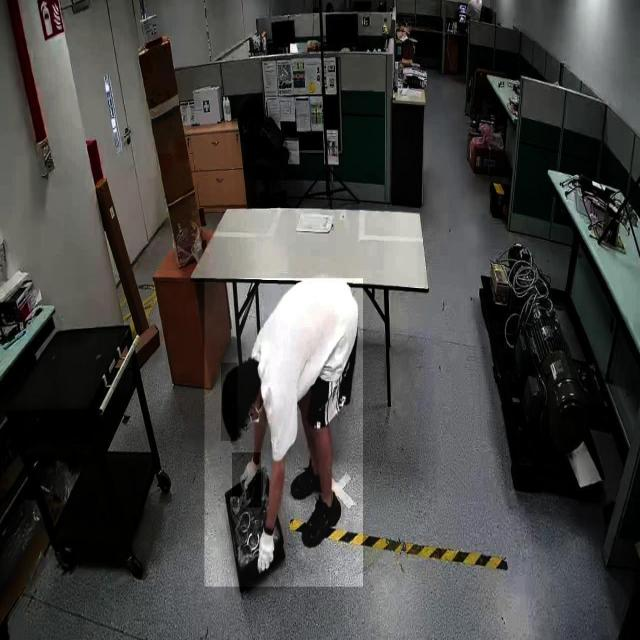hand_glove: (232, 452, 262, 508), (253, 524, 282, 580)
head_nohelmet: (221, 362, 238, 442)
person: (204, 278, 364, 588)
shoes: (301, 490, 344, 557), (289, 448, 327, 500)
